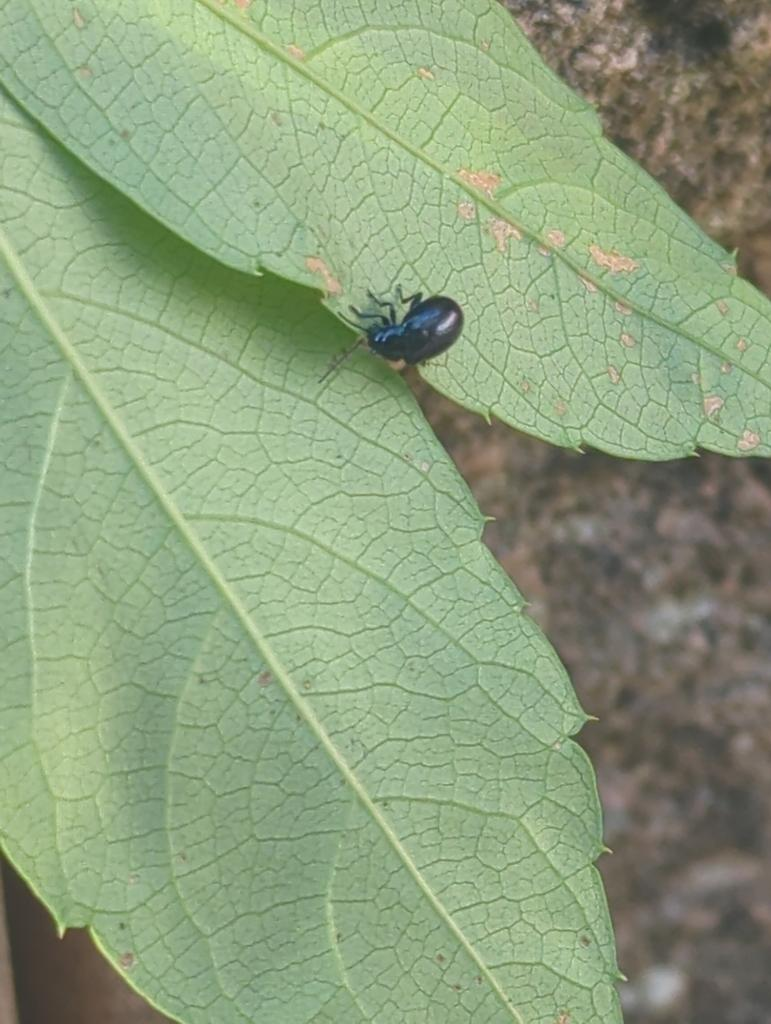flea_beetle: (306, 256, 508, 396)
